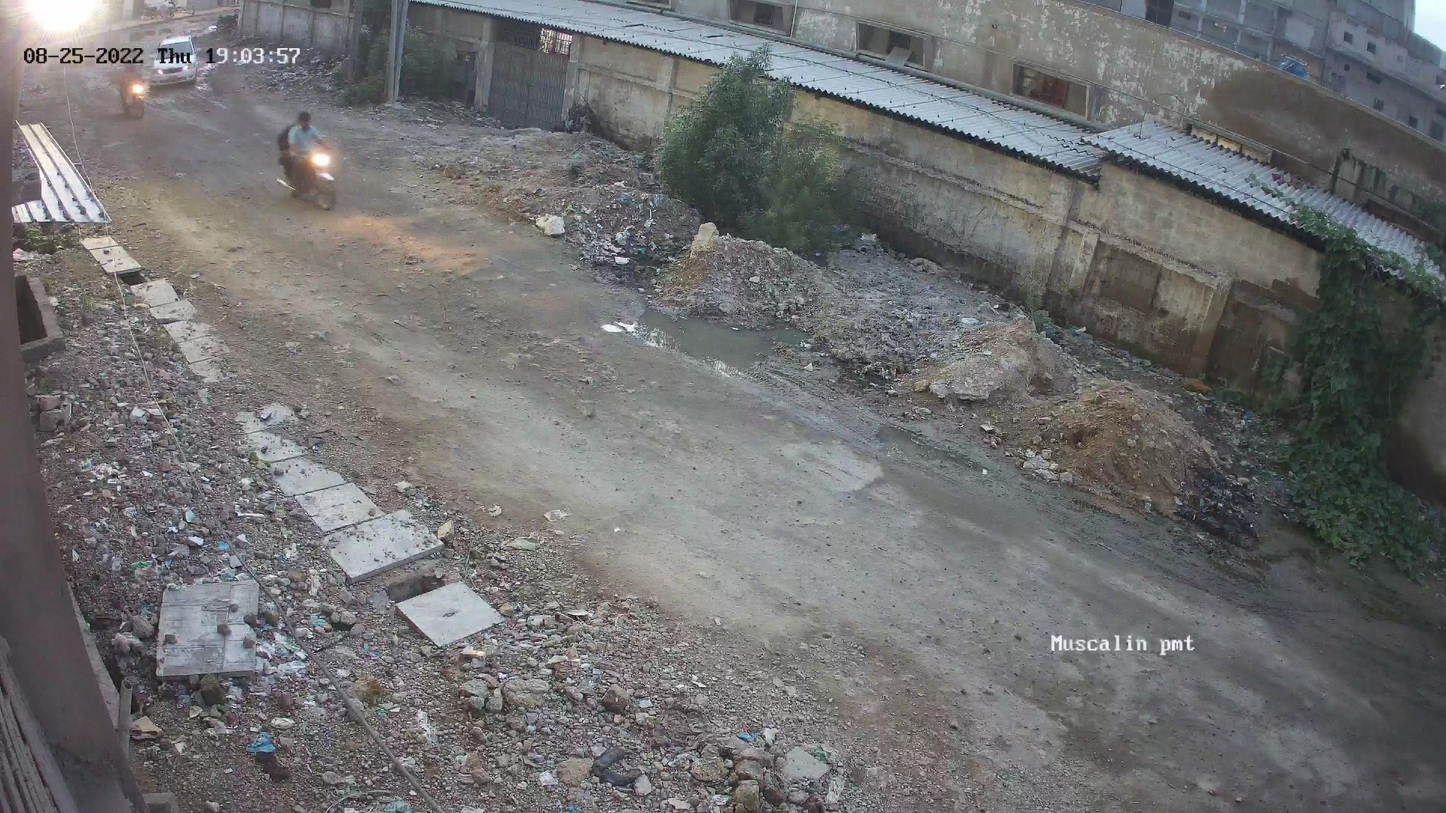person: (273, 110, 336, 154), (118, 69, 148, 77)
